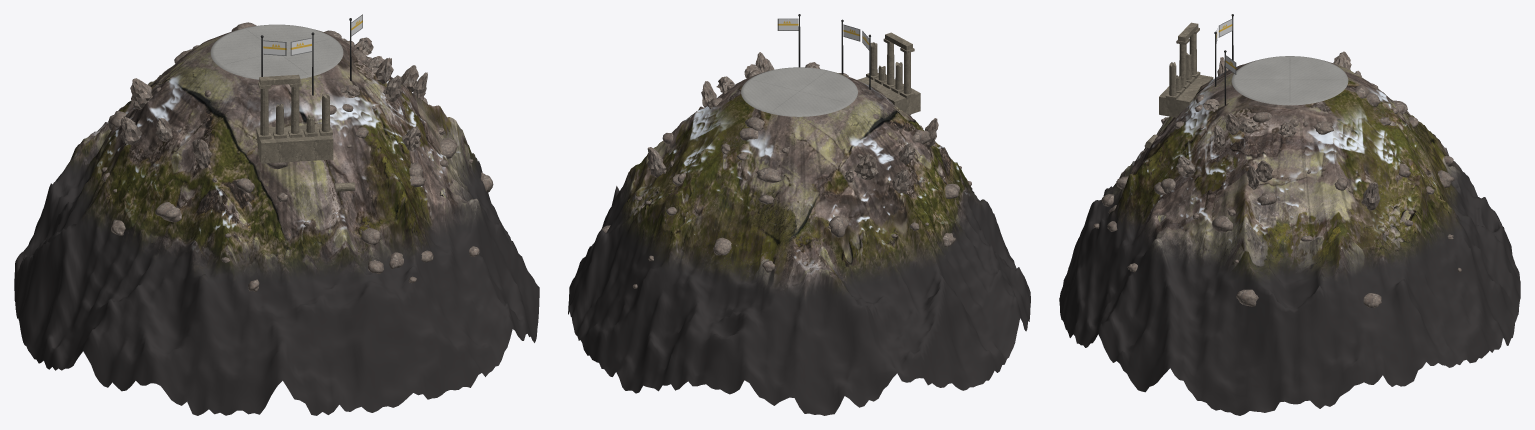
The model's file is Mountain.glb.
3 views of the same model, side by side, from view 1: azimuth 30°, elevation 25°; view 2: azimuth 150°, elevation 25°; view 3: azimuth 270°, elevation 25° (orthographic). The views are drawn at different scales.
Parts seen in each view (by area): view 1: Mountain_LOD0, Platform, Ruins, Rocks, Crags, Banners; view 2: Mountain_LOD0, Platform, Rocks, Crags, Ruins, Banners; view 3: Mountain_LOD0, Platform, Rocks, Crags, Ruins.
Part boxes in pixels (left/top/right/bottom): Mountain_LOD0: left=14, top=30, right=539, bottom=415; Platform: left=210, top=24, right=343, bottom=79; Ruins: left=256, top=74, right=355, bottom=191; Rocks: left=102, top=22, right=493, bottom=291; Crags: left=120, top=37, right=427, bottom=169; Banners: left=263, top=14, right=362, bottom=55; Mountain_LOD0: left=568, top=72, right=1030, bottom=415; Platform: left=741, top=67, right=857, bottom=116; Rocks: left=601, top=70, right=972, bottom=288; Crags: left=647, top=52, right=938, bottom=193; Ruins: left=857, top=32, right=920, bottom=114; Banners: left=777, top=18, right=869, bottom=50; Mountain_LOD0: left=1059, top=60, right=1520, bottom=415; Platform: left=1231, top=56, right=1348, bottom=105; Rocks: left=1093, top=83, right=1461, bottom=307; Crags: left=1176, top=51, right=1380, bottom=210; Ruins: left=1145, top=22, right=1213, bottom=148.
Size of what is drawn, in the model's own units: 21 by 14.39 by 21.
Materials: 6 (6 with a texture image).
